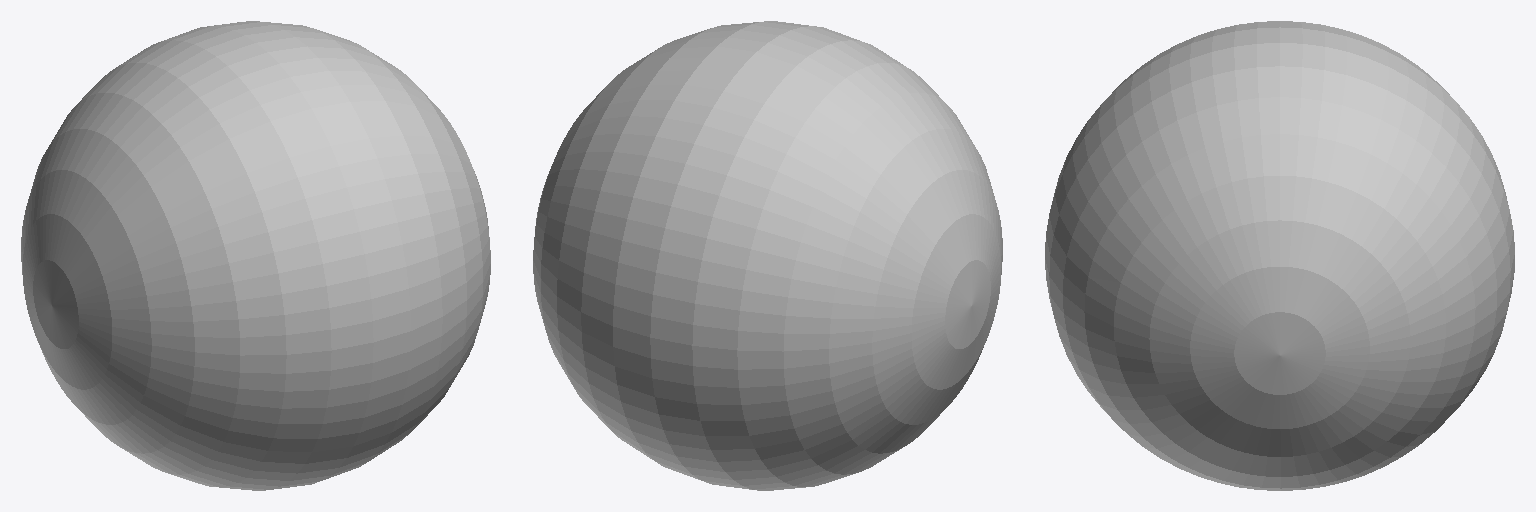
The model's file is jupiterBuilt.obj.
3 views of the same model, side by side, from view 1: azimuth 30°, elevation 25°; view 2: azimuth 150°, elevation 25°; view 3: azimuth 270°, elevation 25° (orthographic).
Parts seen in each view (by area): view 1: Plane; view 2: Plane; view 3: Plane.
Boxes of the visible parts, x1=… form: Plane: x1=21, y1=21, x2=490, y2=490; Plane: x1=533, y1=21, x2=1002, y2=490; Plane: x1=1045, y1=21, x2=1514, y2=490.
Bounding box in the file's own units: 1.27 × 1.27 × 1.27.